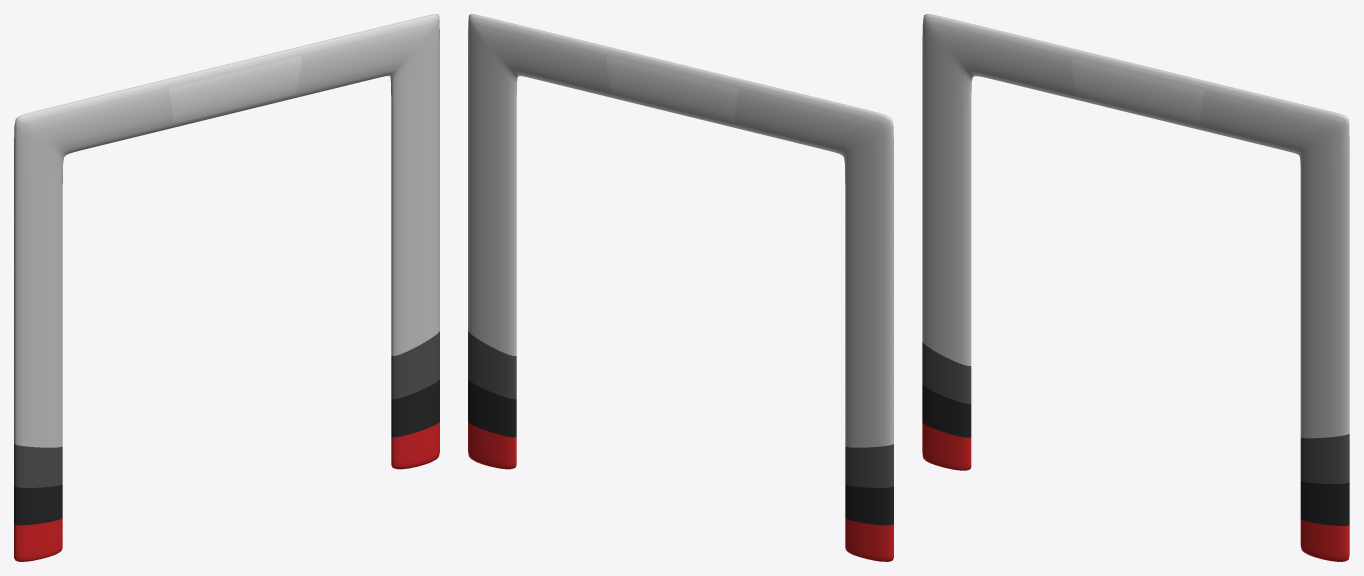
Rendered from square_gate.fbx.
3 renders of one model, left to right at view 1: azimuth 30°, elevation 25°; view 2: azimuth 150°, elevation 25°; view 3: azimuth 330°, elevation 25°, orthographic.
Visible parts, largest first — view 1: Куб; view 2: Куб; view 3: Куб.
Boxes of the visible parts, box(x1,y1,x2,y2) form: Куб: box(14, 14, 439, 561); Куб: box(468, 14, 893, 561); Куб: box(922, 14, 1349, 561).
Bounding box in the file's own units: 792 × 795 × 24.29.
